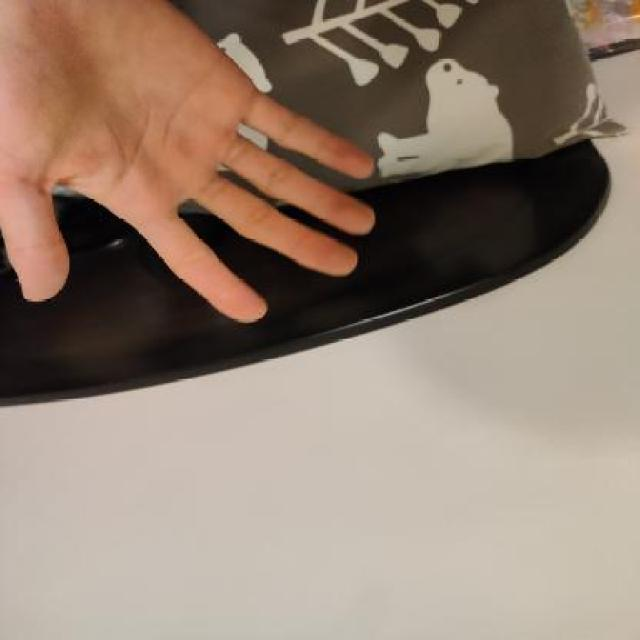bare_hand: (0, 0, 388, 345)
